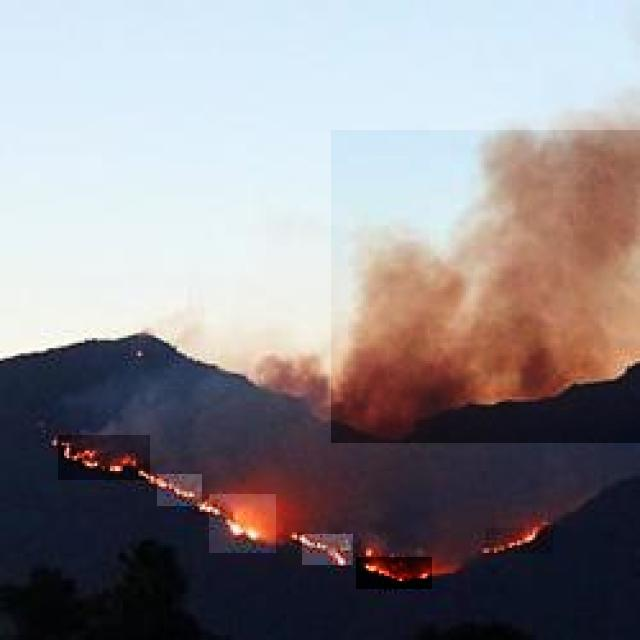Fire: (58, 435, 150, 480), (209, 494, 276, 553), (356, 557, 432, 589), (486, 528, 553, 554), (302, 534, 353, 565), (157, 474, 202, 506)
Smoke: (331, 130, 640, 443)
